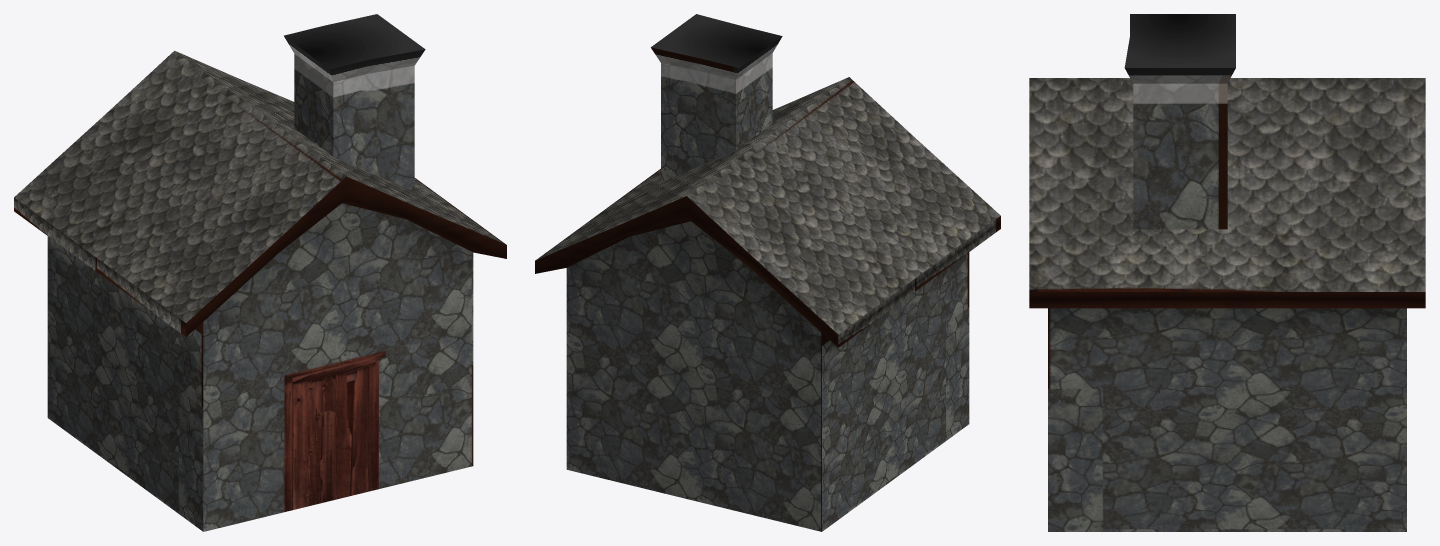
The model's file is house_chimney.fbx.
3 views of the same model, side by side, from view 1: azimuth 30°, elevation 25°; view 2: azimuth 150°, elevation 25°; view 3: azimuth 270°, elevation 25° (orthographic). The views are drawn at different scales.
Visible parts, largest first — view 1: pCube7; view 2: pCube7; view 3: pCube7.
Boxes of the visible parts, x1,y1,x2,y2 form: pCube7: (14,14,506,531); pCube7: (535,14,1000,531); pCube7: (1029,14,1425,531).
Bounding box in the file's own units: 535 × 632 × 496.
Materials: 1 (1 with a texture image).
